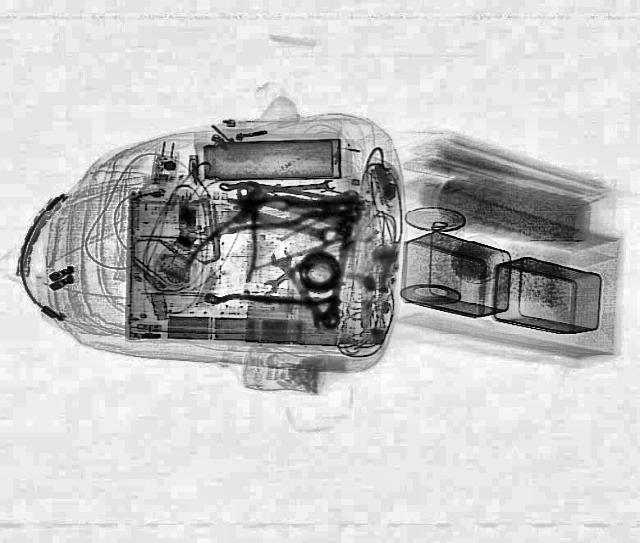Pliers: (181, 183, 281, 285)
Wrench: (264, 245, 336, 332), (257, 234, 339, 294), (240, 177, 338, 199)
